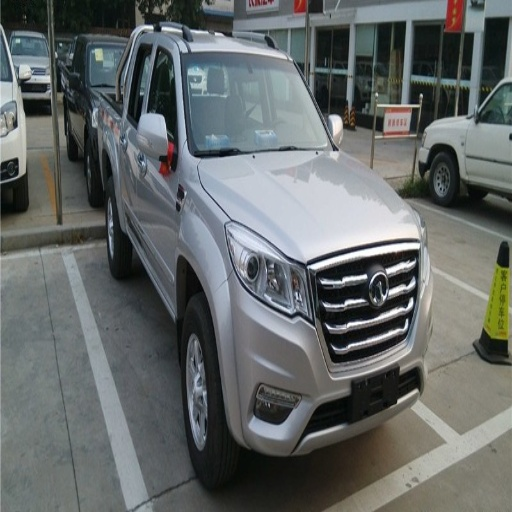front_bumper: (212, 263, 423, 452)
front_glass: (182, 52, 330, 154)
front_right_door: (136, 34, 179, 288)
front_right_light: (227, 223, 309, 317)
hood: (197, 156, 421, 314)
